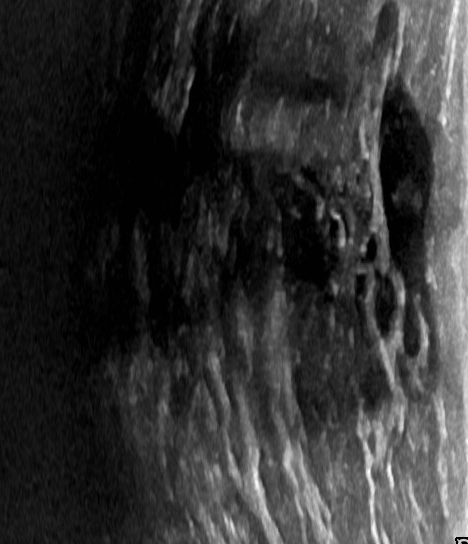Normal: (17, 2, 455, 541)
